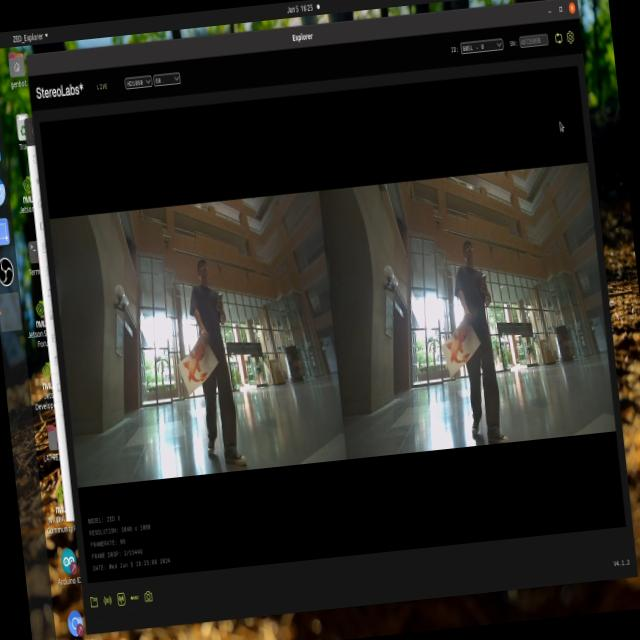red: (436, 314, 483, 392), (175, 339, 214, 394)
